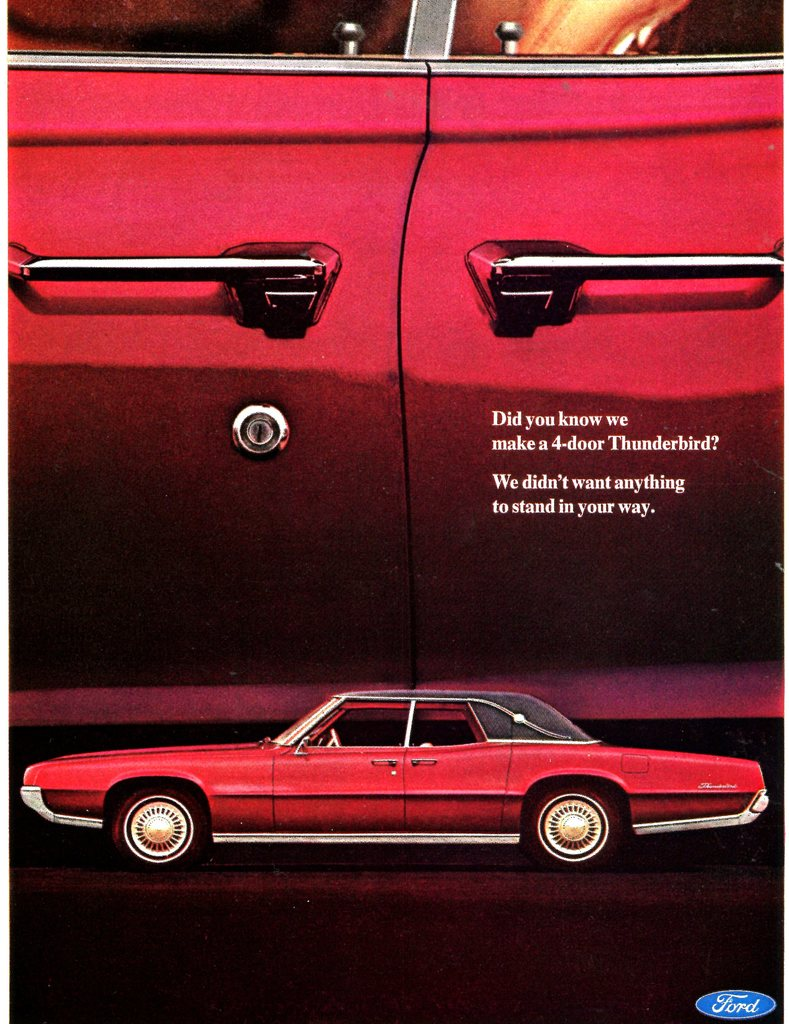Car: (3, 0, 788, 728), (23, 676, 737, 864)
